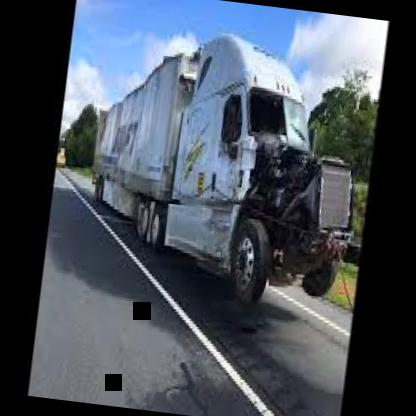accident: (62, 9, 391, 321)
